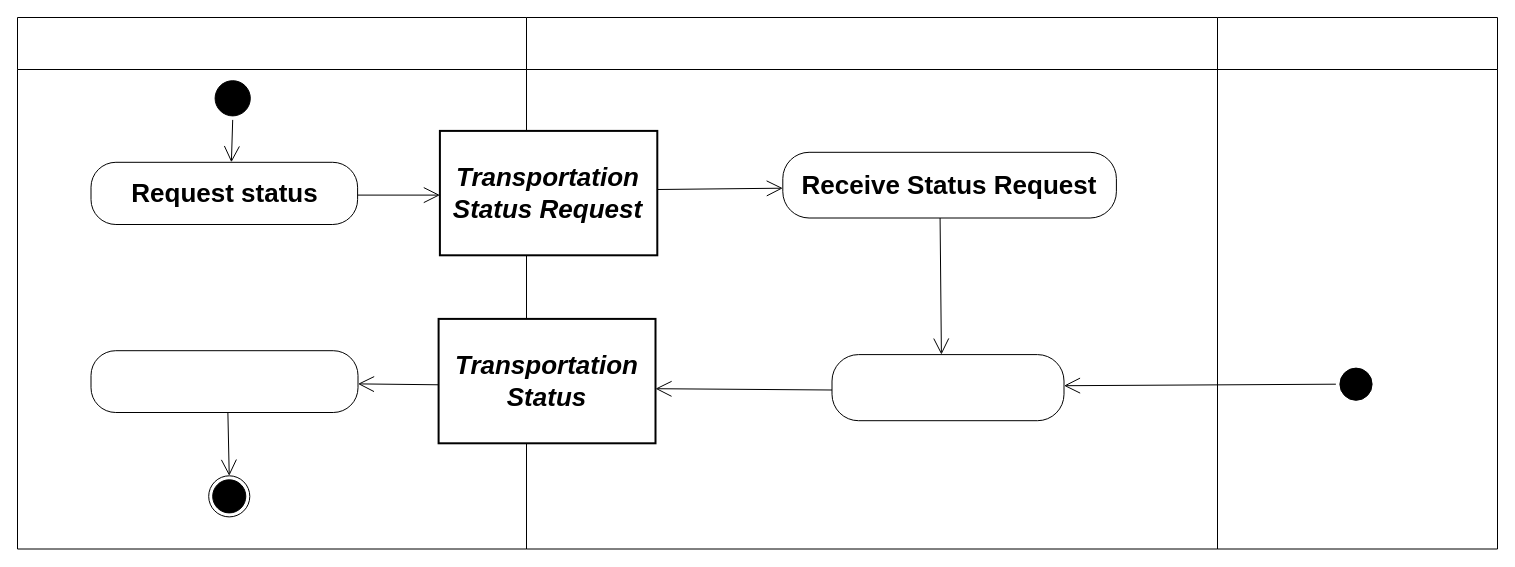
The diagram is 1515 pixels wide and 567 high, and some of its shapes have lost their labels. Each missing label, with the box of its shape:
Receive Status Report: (90, 350, 358, 412)
Report status: (831, 354, 1064, 421)
